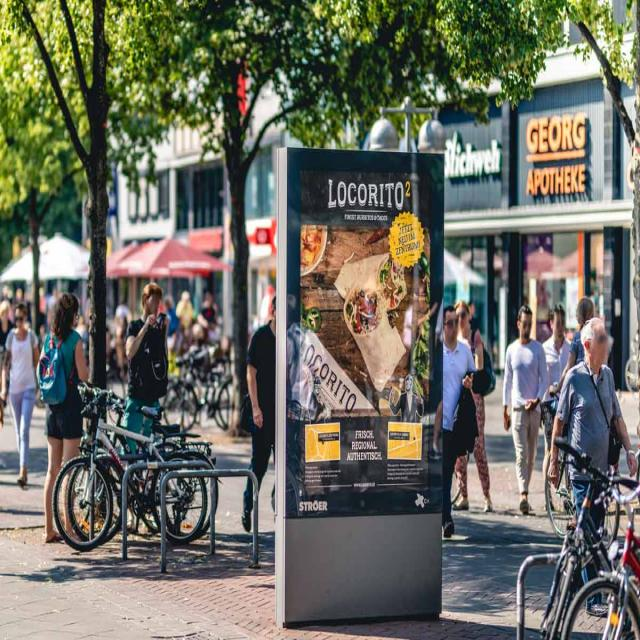Werbetafel frei: (283, 147, 447, 523)
